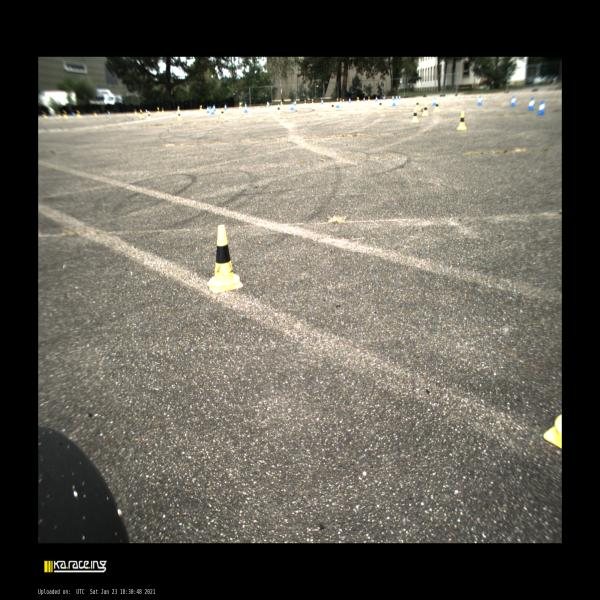blue_cone: (537, 100, 545, 115), (527, 97, 534, 111), (510, 95, 516, 107), (477, 96, 482, 106), (210, 107, 215, 115), (244, 103, 248, 113), (290, 102, 295, 110), (432, 96, 436, 106), (336, 100, 340, 108), (392, 98, 396, 106), (206, 106, 210, 113), (213, 104, 216, 111), (224, 104, 227, 110), (349, 97, 352, 103), (72, 111, 75, 117), (294, 100, 297, 106), (375, 96, 378, 101), (321, 98, 323, 105), (268, 101, 270, 107), (392, 95, 394, 101), (108, 110, 110, 115), (146, 109, 148, 114), (342, 98, 344, 103), (383, 95, 385, 100), (396, 95, 398, 100), (399, 95, 401, 100), (209, 106, 211, 110), (363, 98, 365, 102)
yellow_cone: (207, 225, 243, 293), (544, 414, 562, 449), (456, 111, 466, 130), (411, 108, 419, 122), (433, 100, 440, 112), (422, 103, 428, 116), (377, 100, 383, 109), (177, 110, 182, 120), (220, 108, 225, 118), (276, 104, 281, 114), (330, 102, 335, 112), (415, 100, 420, 110), (139, 109, 144, 118), (147, 111, 151, 121), (63, 111, 68, 118), (77, 110, 81, 118), (356, 97, 360, 103), (43, 112, 47, 118), (157, 107, 160, 114), (177, 106, 180, 113), (239, 102, 242, 109), (311, 99, 314, 105), (58, 112, 61, 117), (94, 111, 97, 116), (162, 107, 164, 114), (340, 97, 342, 104), (135, 109, 137, 115), (200, 105, 202, 111), (281, 101, 283, 107), (304, 100, 306, 106), (368, 96, 370, 101)
